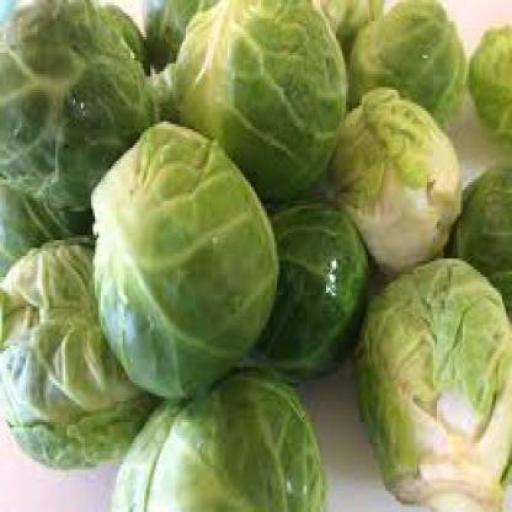biodegradable: (91, 116, 283, 396), (356, 254, 510, 510), (2, 230, 164, 470), (2, 0, 160, 222), (176, 0, 350, 201), (111, 366, 330, 510), (332, 82, 464, 271), (254, 193, 372, 377), (352, 1, 470, 121), (448, 158, 511, 318), (2, 180, 96, 272), (470, 21, 511, 157), (145, 0, 222, 62), (148, 60, 218, 124), (319, 0, 385, 48), (150, 63, 180, 119)
